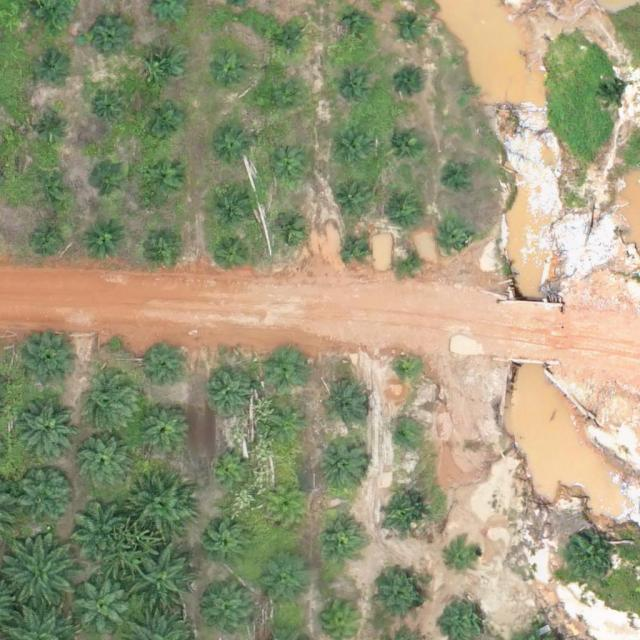Grass: (148, 50, 187, 89)
Healthy: (3, 540, 81, 618), (129, 475, 192, 538), (133, 553, 195, 616), (80, 373, 143, 435), (15, 394, 77, 456), (79, 435, 134, 491), (78, 582, 133, 637), (19, 467, 74, 522), (203, 366, 258, 421), (24, 332, 79, 387), (202, 583, 256, 638), (72, 503, 126, 558), (138, 402, 192, 457), (322, 440, 369, 488)
Small: (374, 571, 429, 626), (563, 533, 617, 588), (141, 345, 188, 393), (202, 520, 249, 567), (263, 560, 310, 607), (322, 380, 369, 427), (317, 514, 364, 561), (379, 493, 426, 540), (262, 84, 302, 124), (334, 69, 374, 109), (212, 235, 252, 275), (333, 180, 373, 220), (144, 104, 183, 144), (92, 17, 131, 57), (83, 222, 123, 261), (35, 170, 74, 210), (143, 158, 183, 197), (142, 225, 182, 264), (90, 162, 129, 202), (268, 348, 307, 388), (272, 408, 311, 448), (269, 150, 308, 190), (387, 190, 427, 229), (387, 124, 426, 164), (214, 51, 253, 90), (333, 130, 372, 169), (32, 222, 71, 261), (215, 187, 254, 226), (209, 450, 248, 489), (213, 127, 252, 166), (272, 212, 311, 251), (446, 538, 485, 577), (342, 234, 373, 266), (396, 247, 427, 279), (35, 58, 66, 89), (40, 116, 71, 147), (92, 93, 123, 124), (398, 69, 429, 100), (341, 13, 372, 44), (395, 13, 426, 44), (440, 226, 471, 257), (446, 160, 477, 191), (391, 356, 422, 387), (389, 423, 420, 454), (598, 81, 629, 112), (275, 28, 306, 59)
Yellow: (265, 487, 305, 527)
